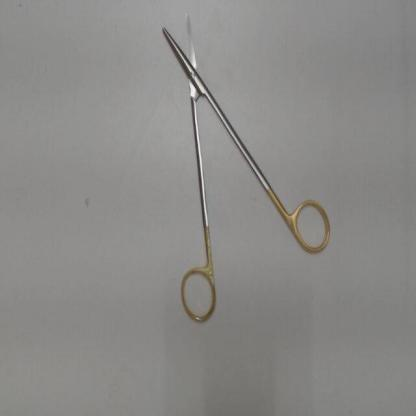7 Metzenbaum Scissors: (158, 5, 334, 329)
